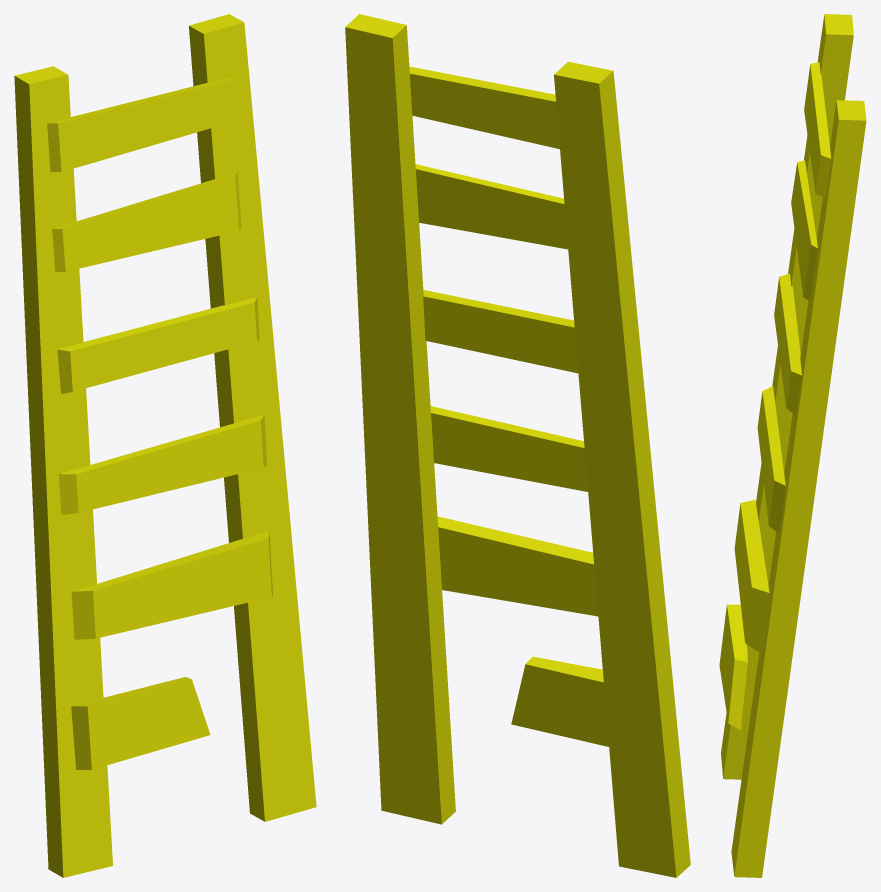
3 views of the same model, side by side, from view 1: azimuth 30°, elevation 25°; view 2: azimuth 150°, elevation 25°; view 3: azimuth 270°, elevation 25° (orthographic). The views are drawn at different scales.
Parts seen in each view (by area): view 1: cauthang; view 2: cauthang; view 3: cauthang.
Boxes of the visible parts, bbox=[...] form: cauthang: bbox=[14, 14, 316, 877]; cauthang: bbox=[345, 14, 690, 877]; cauthang: bbox=[719, 14, 866, 877].
Size of the model in its own units: 1.13 by 3.12 by 0.5528.
Materials: 1 (1 with a texture image).
